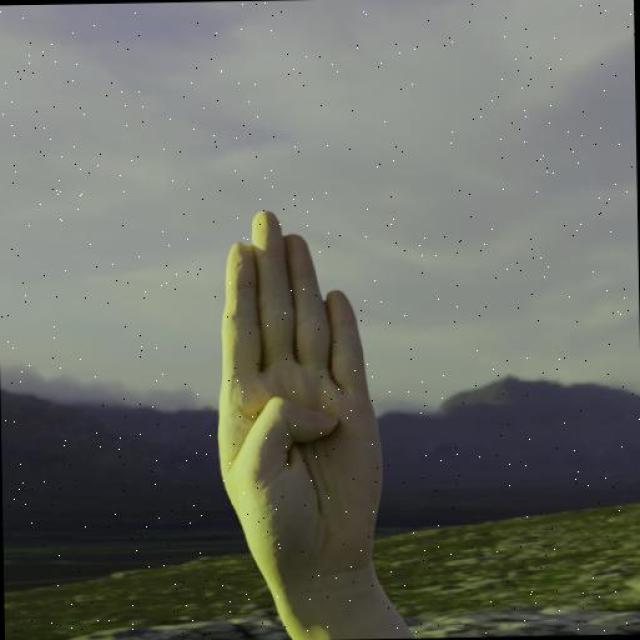B: (199, 195, 407, 623)
